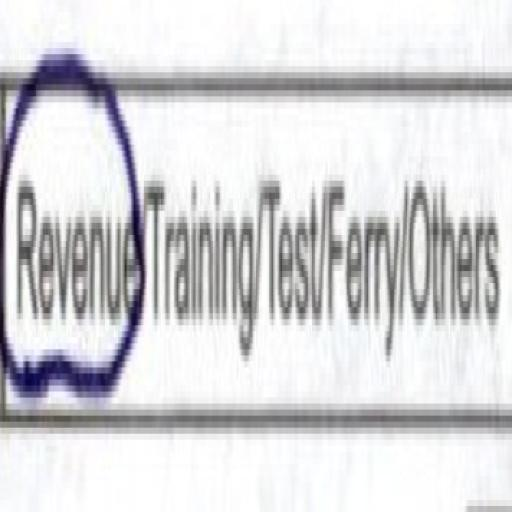check: (0, 24, 145, 455)
